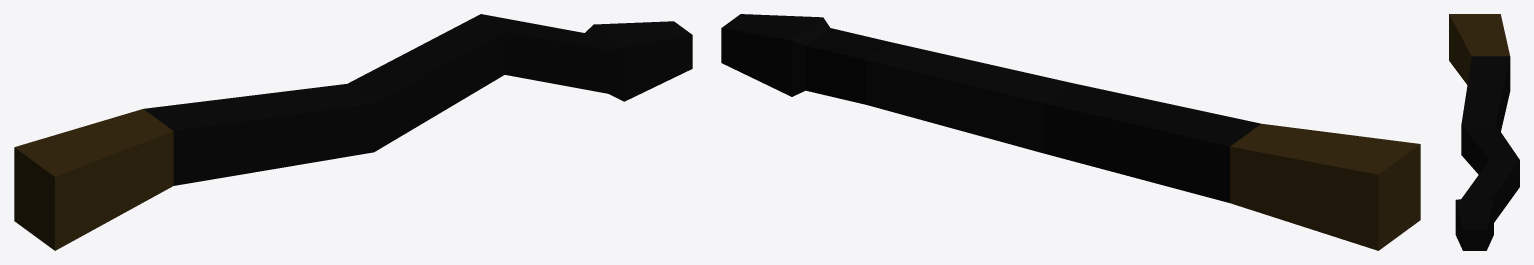
The model's file is match02.obj.
The picture shows the model from 3 angles, left to right: view 1: azimuth 30°, elevation 25°; view 2: azimuth 150°, elevation 25°; view 3: azimuth 270°, elevation 25°; orthographic projection. The views are drawn at different scales.
Visible parts, largest first — view 1: Cube_Cube.002; view 2: Cube_Cube.002; view 3: Cube_Cube.002.
Part boxes in pixels (x1,y1,x2,y2): Cube_Cube.002: (14,14,692,250); Cube_Cube.002: (721,14,1420,250); Cube_Cube.002: (1449,14,1519,250).
Size of the model in its own units: 0.0524 by 0.00606 by 0.00782.
